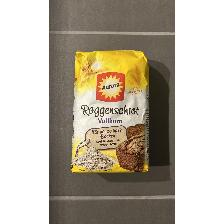Mehl: (70, 49, 152, 173)
